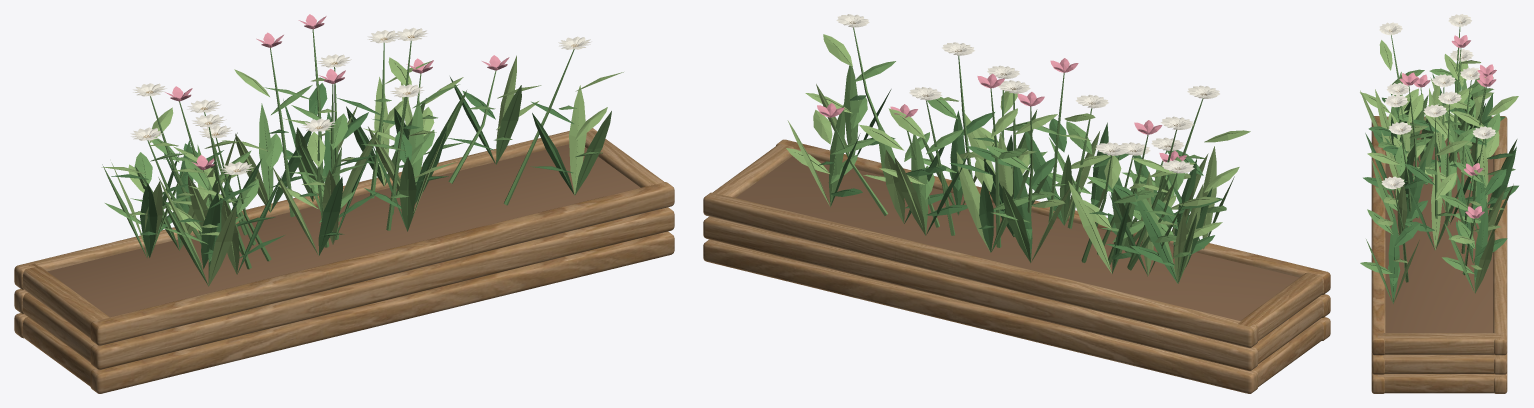
File: balcony-flowerbox.glb
3 renders of one model, left to right at view 1: azimuth 30°, elevation 25°; view 2: azimuth 150°, elevation 25°; view 3: azimuth 270°, elevation 25°, orthographic. The views are drawn at different scales.
Parts seen in each view (by area): view 1: catalog_surface_RealismUV; view 2: catalog_surface_RealismUV; view 3: catalog_surface_RealismUV.
Boxes of the visible parts, bbox=[...] form: catalog_surface_RealismUV: bbox=[14, 14, 674, 393]; catalog_surface_RealismUV: bbox=[703, 14, 1330, 393]; catalog_surface_RealismUV: bbox=[1360, 14, 1518, 393].
Bounding box in the file's own units: 1 × 0.42 × 0.3.
8 materials, 1 textured.
